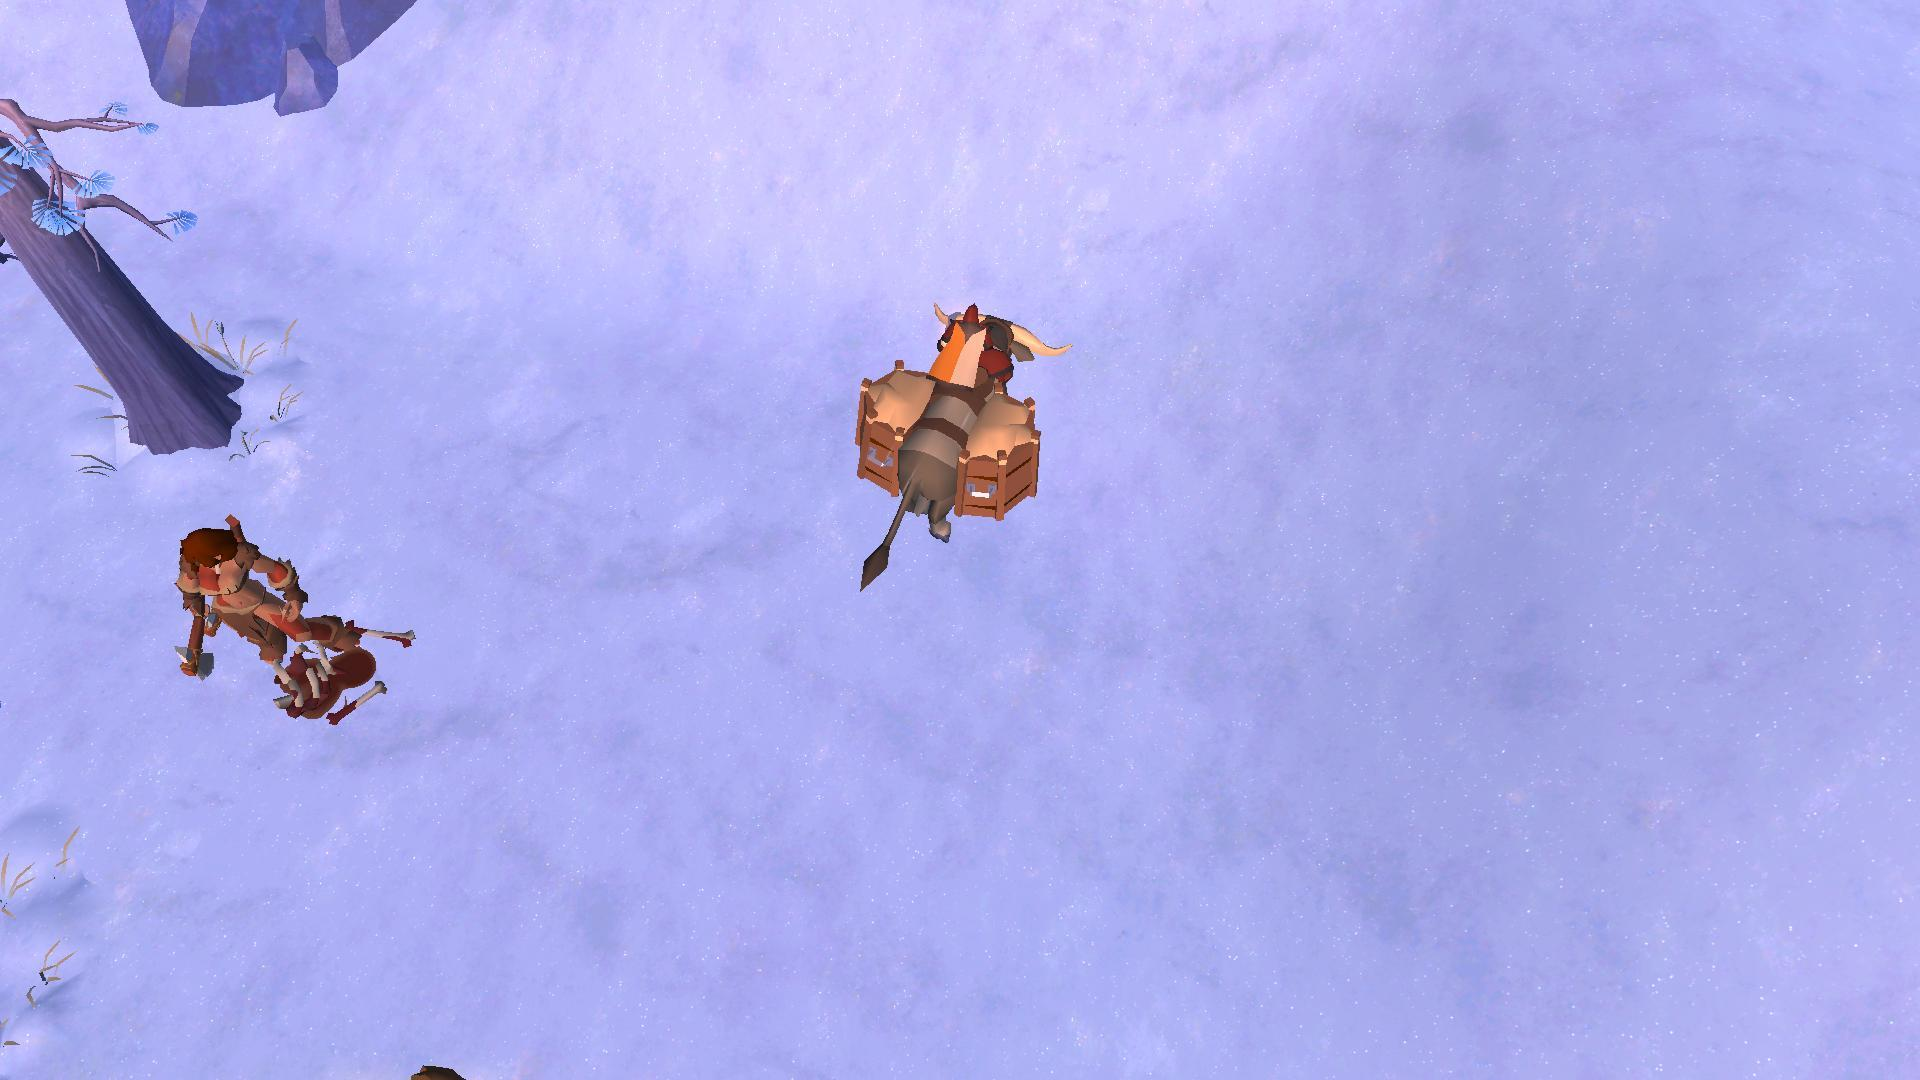enemy_factionKeeper: (167, 514, 323, 678)
